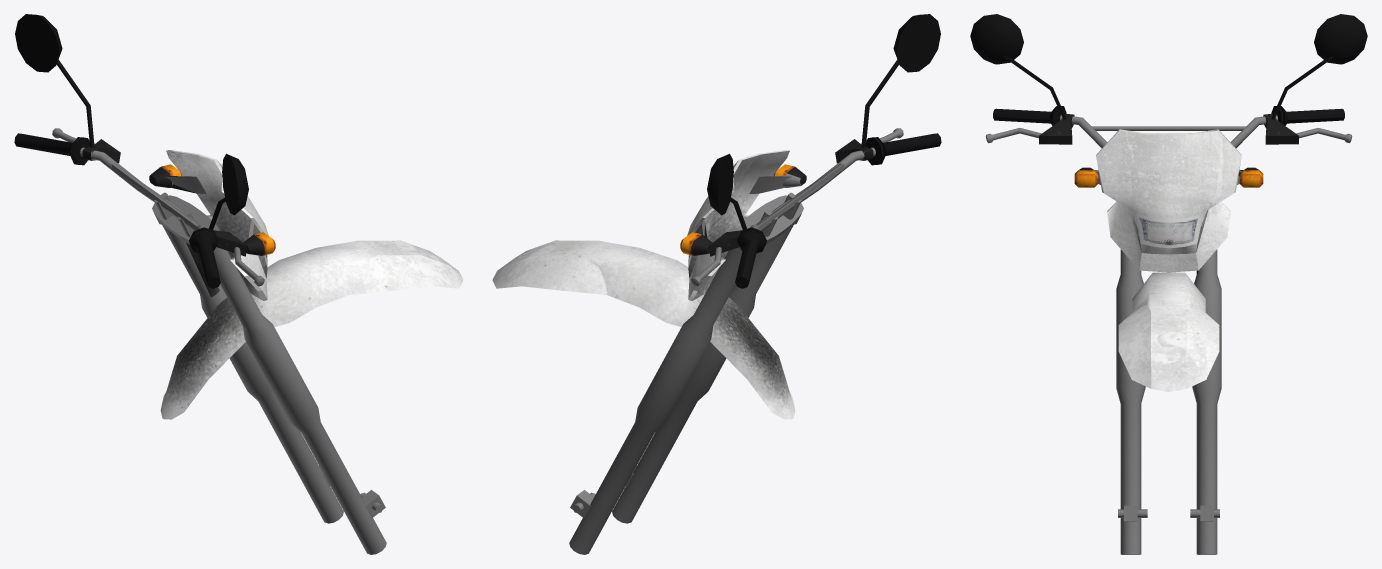
Rendered from motorbike_fork.fbx.
3 views of the same model, side by side, from view 1: azimuth 30°, elevation 25°; view 2: azimuth 150°, elevation 25°; view 3: azimuth 270°, elevation 25° (orthographic). The views are drawn at different scales.
Visible parts, largest first — view 1: Steering_Column_Motorbike_0; view 2: Steering_Column_Motorbike_0; view 3: Steering_Column_Motorbike_0.
Boxes of the visible parts, x1,y1,x2,y2 form: Steering_Column_Motorbike_0: [14, 14, 463, 554]; Steering_Column_Motorbike_0: [492, 14, 941, 554]; Steering_Column_Motorbike_0: [970, 14, 1367, 554].
Bounding box in the file's own units: 0.9387 × 0.8464 × 1.17.
